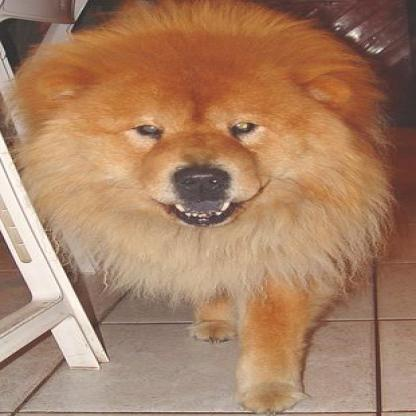chow: (1, 0, 402, 414)
